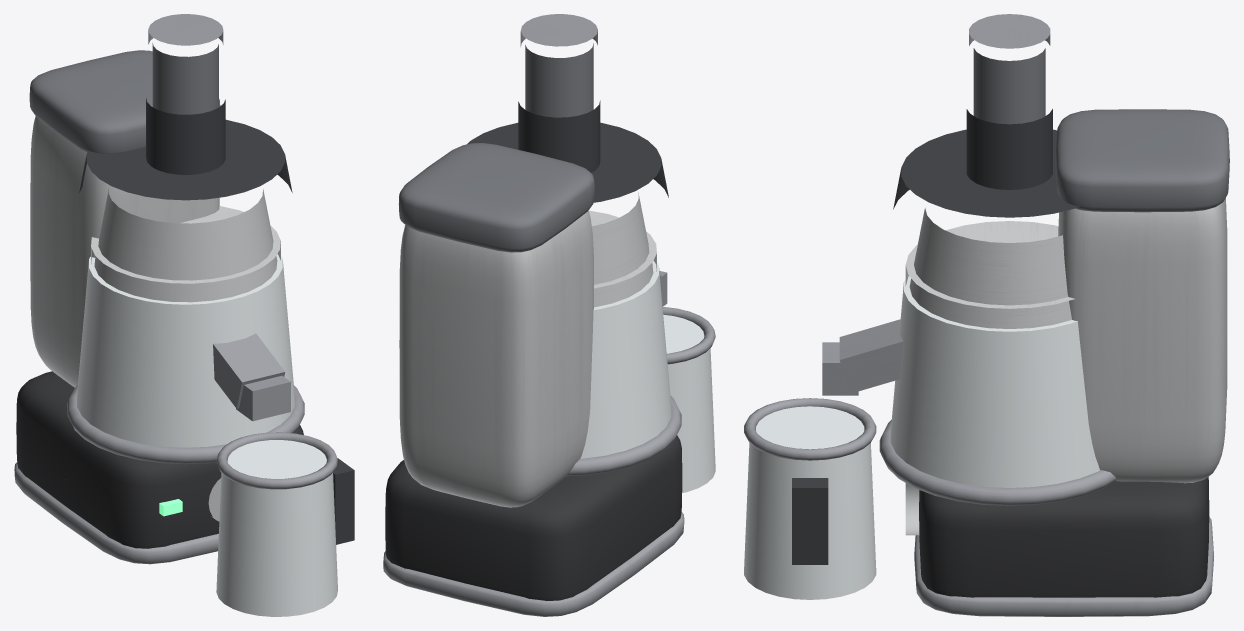
The model's file is juicer.glb.
3 renders of one model, left to right at view 1: azimuth 30°, elevation 25°; view 2: azimuth 150°, elevation 25°; view 3: azimuth 270°, elevation 25°, orthographic. The views are drawn at different scales.
Visible parts, largest first — view 1: bowl, jug, base, column, filter-basket, column-cap, lid, feed-chute, pusher, base-trim, bowl-ring, spout (+5 smaller); view 2: column, base, column-cap, bowl, jug, base-trim, lid, filter-basket, pusher, feed-chute, bowl-ring, pusher-cap (+2 smaller); view 3: column, bowl, base, jug, column-cap, filter-basket, lid, base-trim, feed-chute, pusher, bowl-ring, spout (+6 smaller).
Boxes of the visible parts, x1,y1,x2,y2 form: bowl: (77, 254, 294, 447); jug: (216, 440, 337, 616); base: (16, 371, 303, 548); column: (30, 116, 219, 387); filter-basket: (94, 188, 277, 302); column-cap: (29, 50, 220, 153); lid: (79, 119, 292, 200); feed-chute: (146, 98, 225, 174); pusher: (152, 43, 218, 114); base-trim: (14, 462, 218, 564); bowl-ring: (67, 385, 304, 464); spout: (213, 333, 285, 408); column: (399, 210, 593, 507); base: (385, 435, 682, 600); column-cap: (398, 143, 594, 252); bowl: (580, 260, 671, 458); jug: (663, 314, 715, 492); base-trim: (383, 512, 684, 616); lid: (467, 122, 668, 202); filter-basket: (591, 192, 653, 307); pusher: (525, 43, 593, 117); feed-chute: (518, 100, 600, 172); bowl-ring: (567, 395, 681, 476); pusher-cap: (520, 14, 597, 46); column: (1058, 198, 1227, 483); bowl: (890, 276, 1100, 487); base: (919, 477, 1209, 597); jug: (744, 406, 876, 599); column-cap: (1055, 109, 1229, 212); filter-basket: (909, 208, 1071, 328); lid: (893, 129, 1079, 217); base-trim: (914, 517, 1213, 616); feed-chute: (966, 109, 1052, 189); pusher: (973, 48, 1045, 124); bowl-ring: (879, 420, 1115, 505); spout: (839, 319, 903, 393).
Size of the model in its own units: 0.216 by 0.493 by 0.4016.
Materials: 8 (3 with a texture image).
